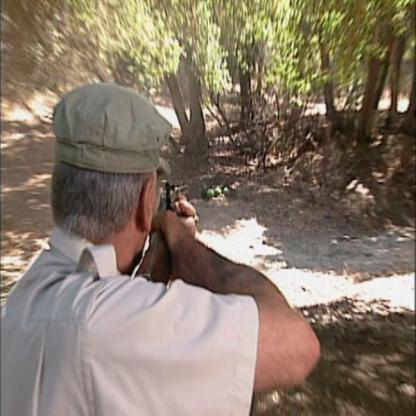Guns: (134, 180, 193, 292)
